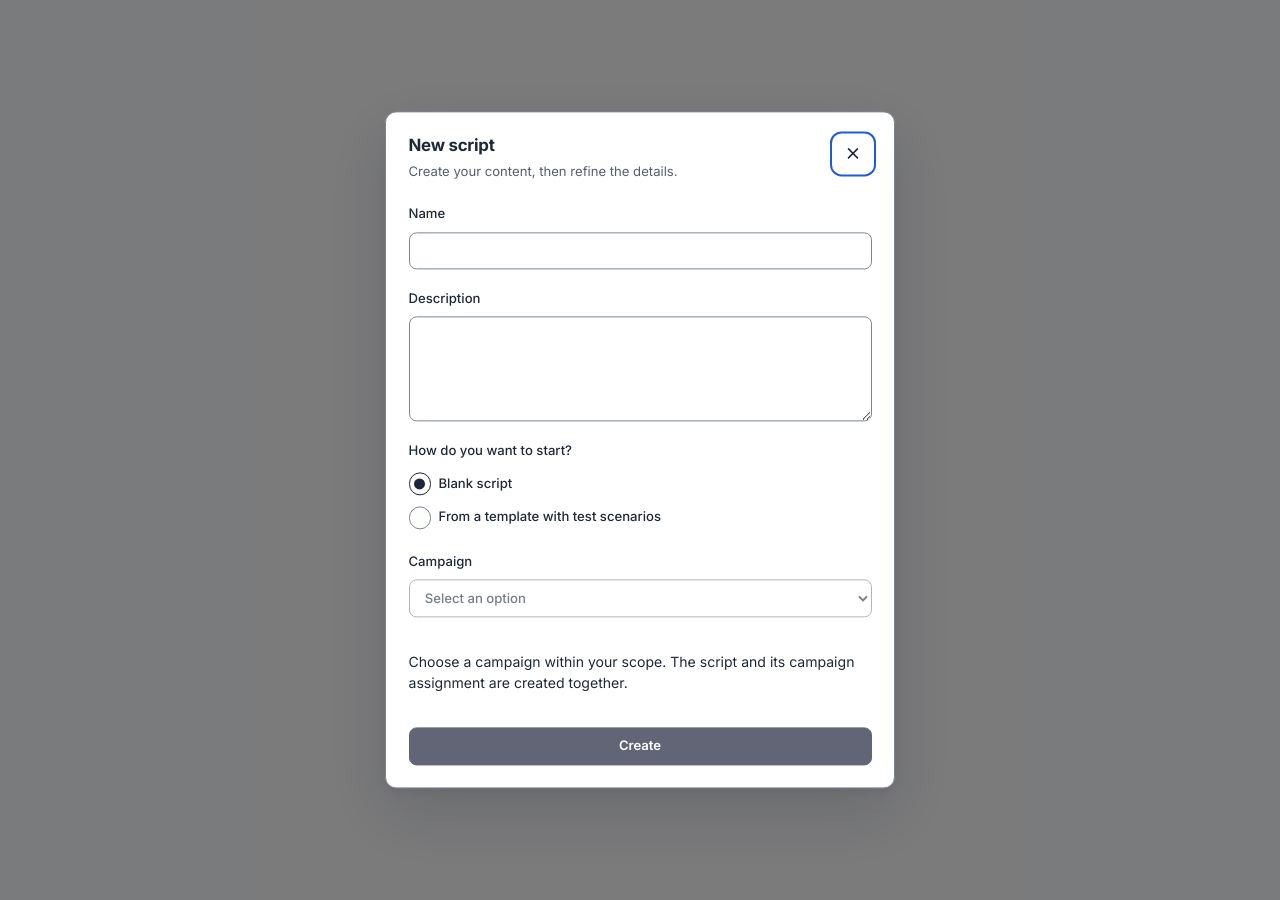
Test: requires a campaign for script creation and explains a campaign-scope 403
Type "Synthetic" into the field labelled "Name" at point(640, 251), box top-left (408, 232), bottom-right (872, 270)
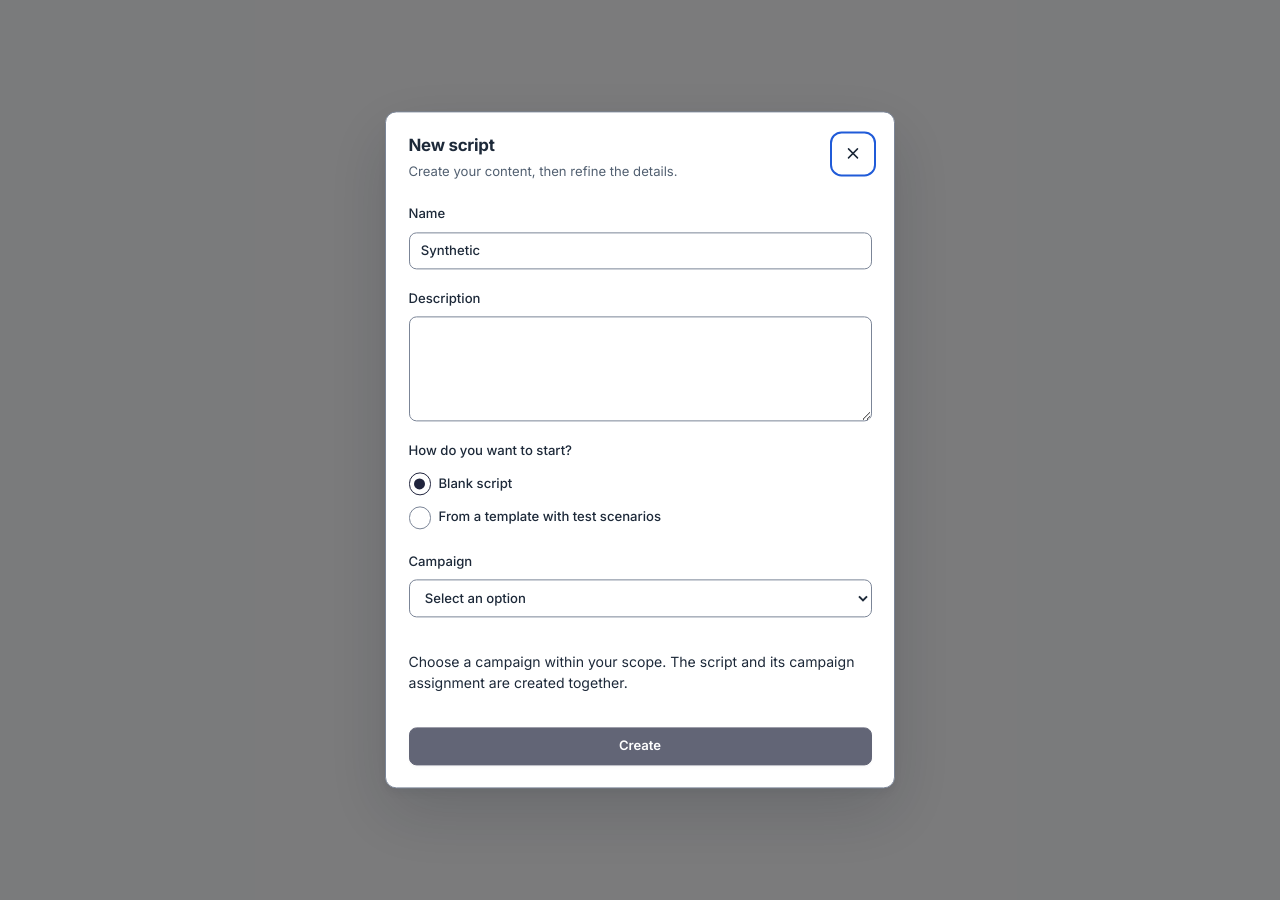
expect the button "Create" is disabled: met, box top-left (408, 728), bottom-right (872, 765)
expect the dropdown labelled "Campaign" is enabled: met
Select "Demo campaign" in the dropdown labelled "Campaign" at point(640, 599), box top-left (408, 580), bottom-right (872, 617)
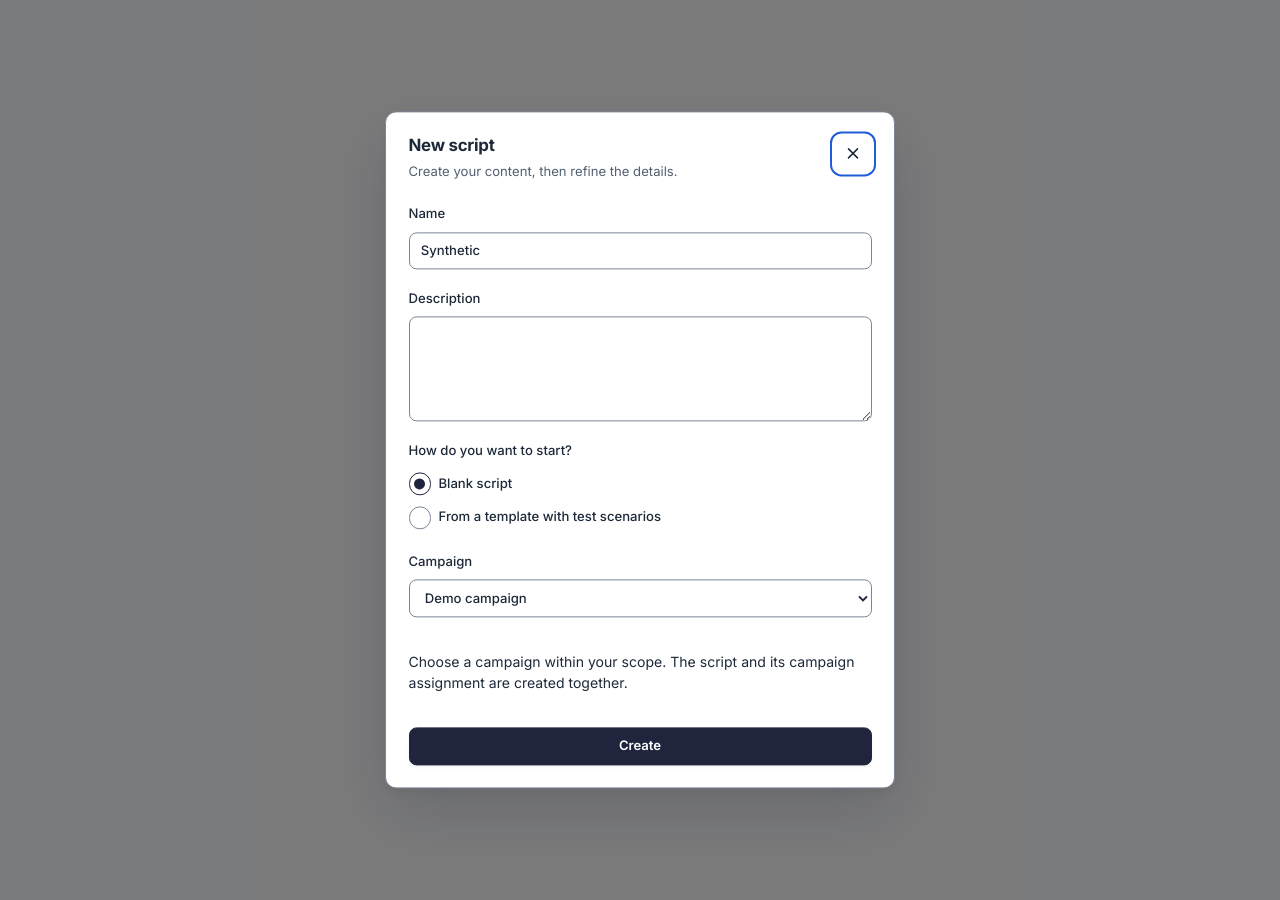
Submit the form, box top-left (408, 205), bottom-right (872, 765)
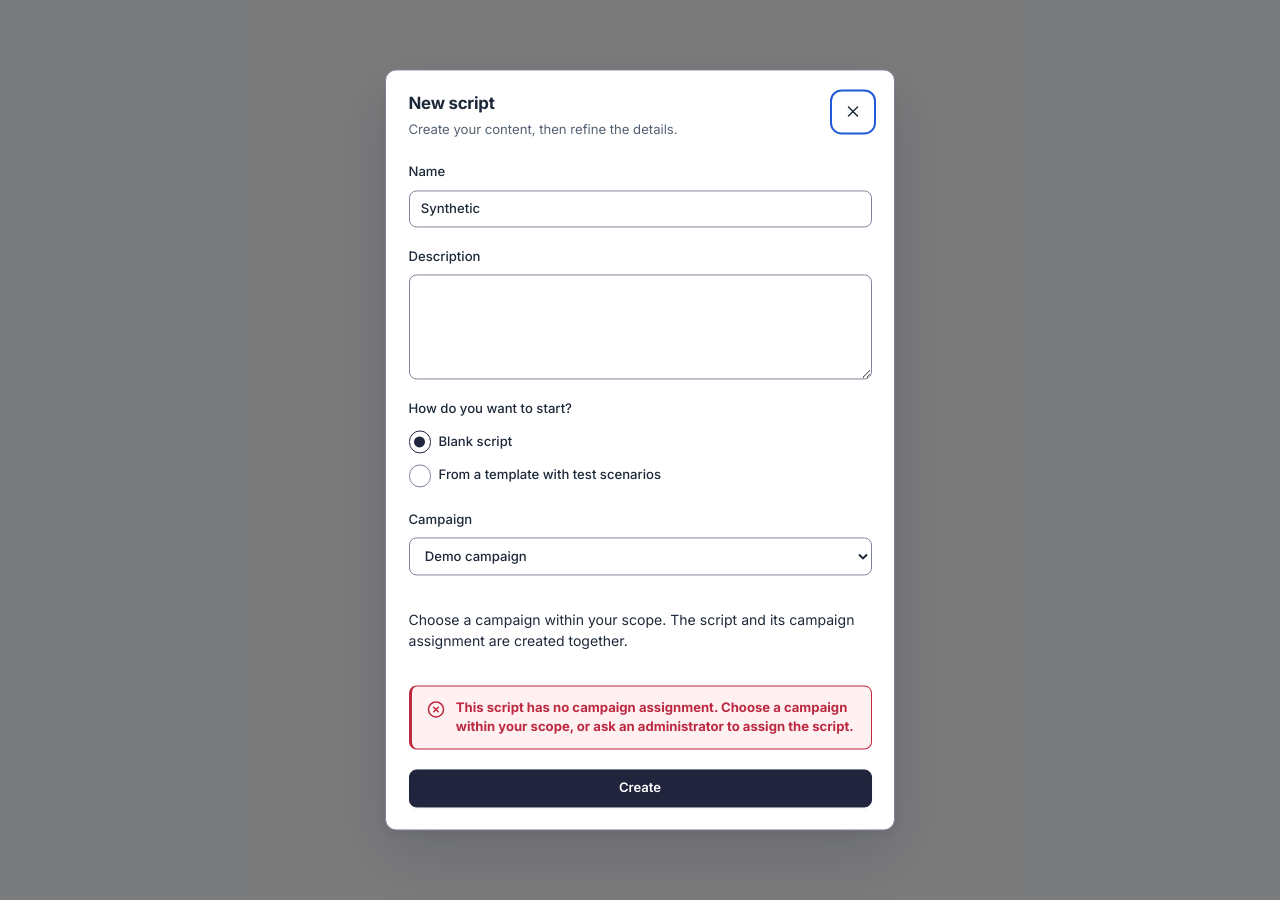
expect the text "This script has no campaign assignment. Choose a campaign within your scope, or ask an administrator to assign the scrip" is shown: met, box top-left (456, 699), bottom-right (854, 735)
